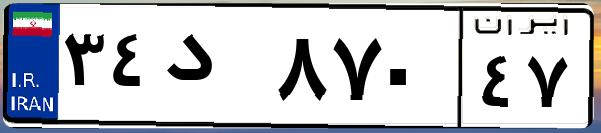0: (385, 28, 445, 110)
3: (57, 26, 110, 100)
4: (475, 38, 525, 113), (110, 28, 158, 98)
7: (330, 28, 385, 110), (525, 38, 570, 115)
8: (270, 28, 330, 110)
د: (158, 20, 270, 120)
